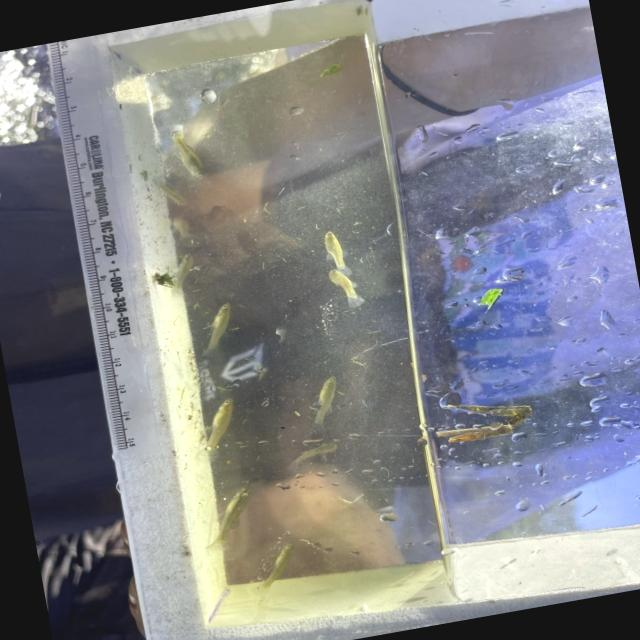Sivrisinek Baligi: (186, 282, 257, 361), (194, 477, 268, 548), (182, 391, 252, 464), (296, 367, 356, 429), (242, 539, 306, 593), (165, 118, 212, 186), (284, 430, 348, 474), (321, 262, 368, 315), (312, 222, 355, 279)
